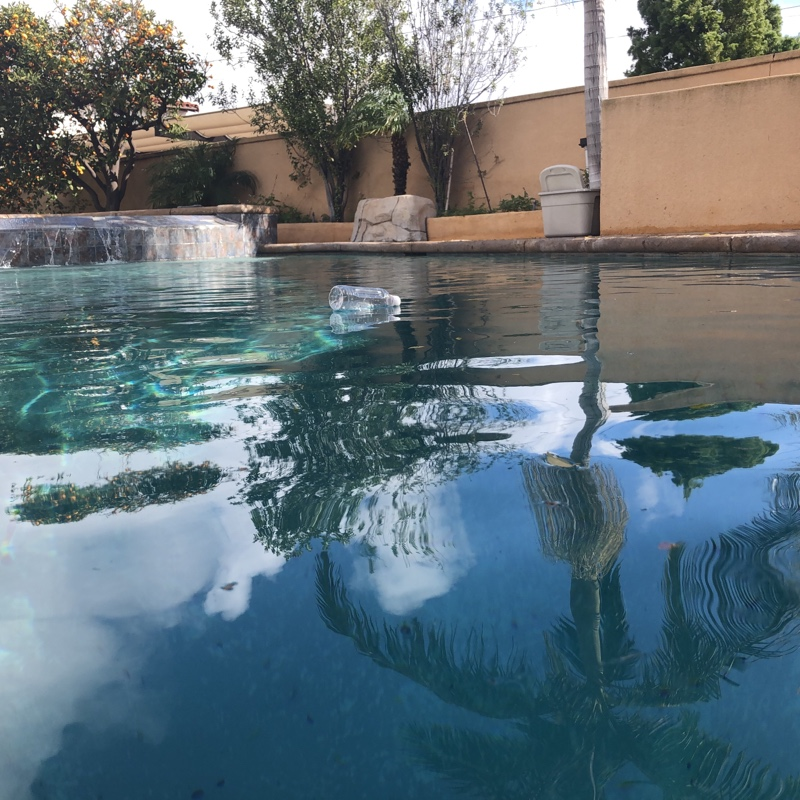Plastic Bottle: (325, 281, 403, 314)
